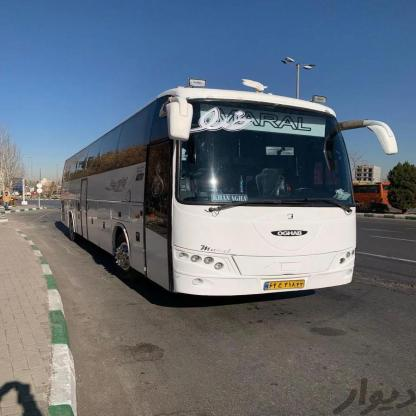Bus: (55, 83, 380, 298)
